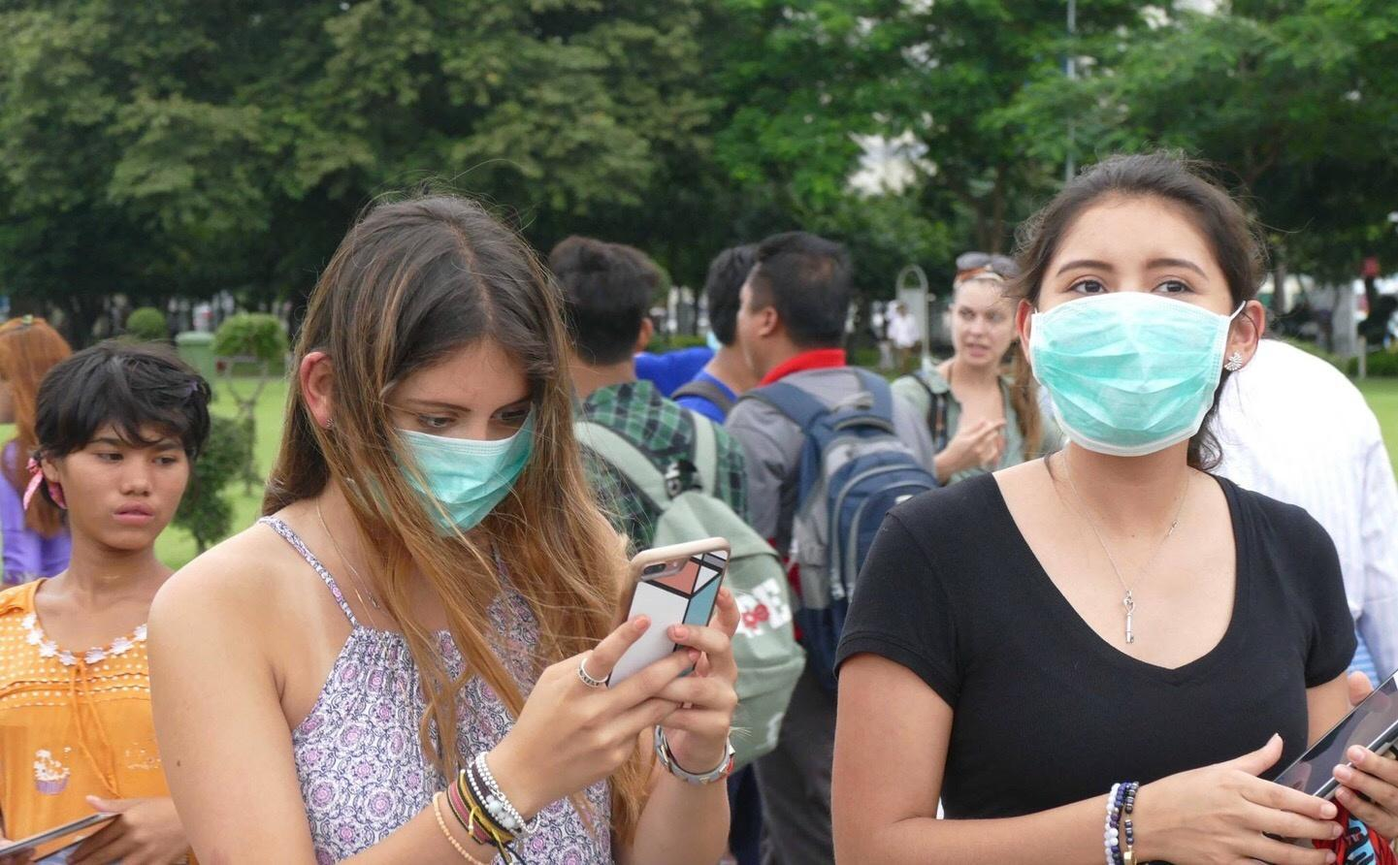NONE: (68, 433, 188, 544), (950, 290, 1019, 364)
OK: (1026, 247, 1239, 460), (363, 363, 542, 542)
